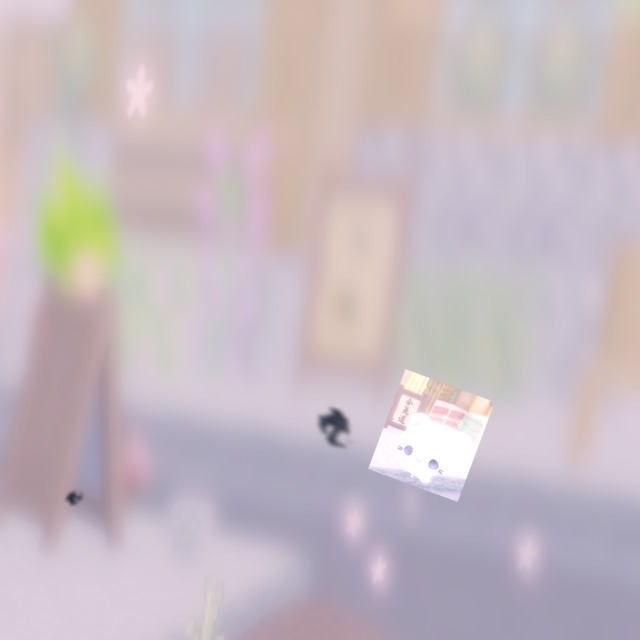urso_branco: (368, 369, 495, 502)
urso_preto: (312, 399, 360, 459), (422, 437, 454, 470), (61, 486, 88, 509)
